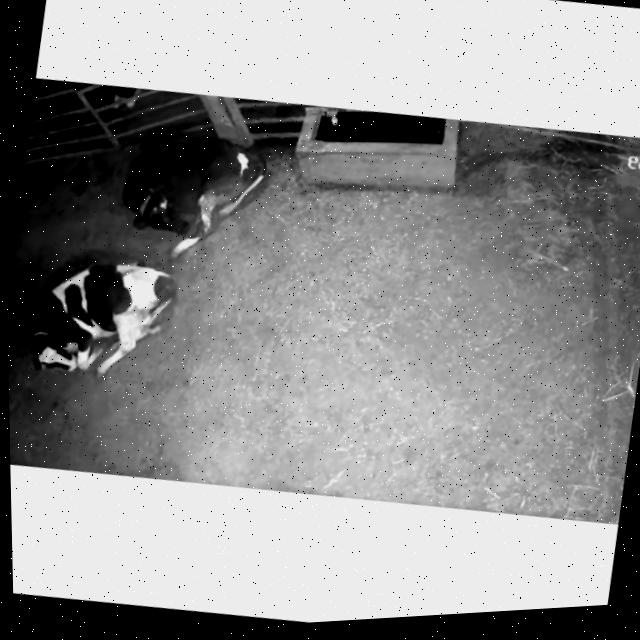lay: (106, 96, 294, 266), (8, 230, 197, 397)
